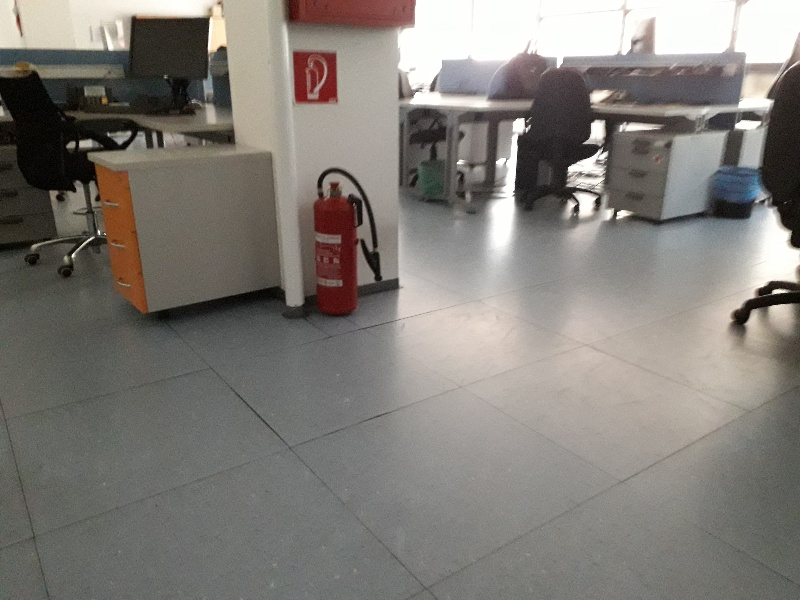vataparat: (311, 166, 383, 318)
